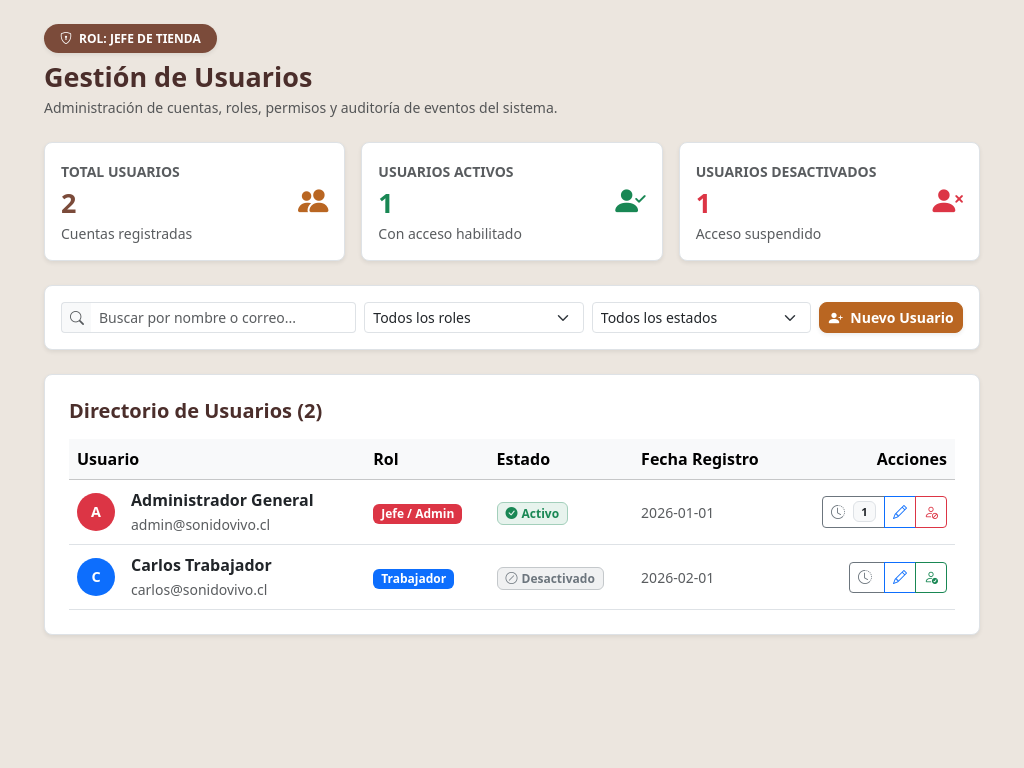
Test: UsuariosJefe - Pruebas Unitarias › 5. Filtra la lista de usuarios por término de búsqueda, rol y estado
Type "carlos" into the field with placeholder "Buscar por nombre o correo..." at (224, 318), box [91,302,356,333]
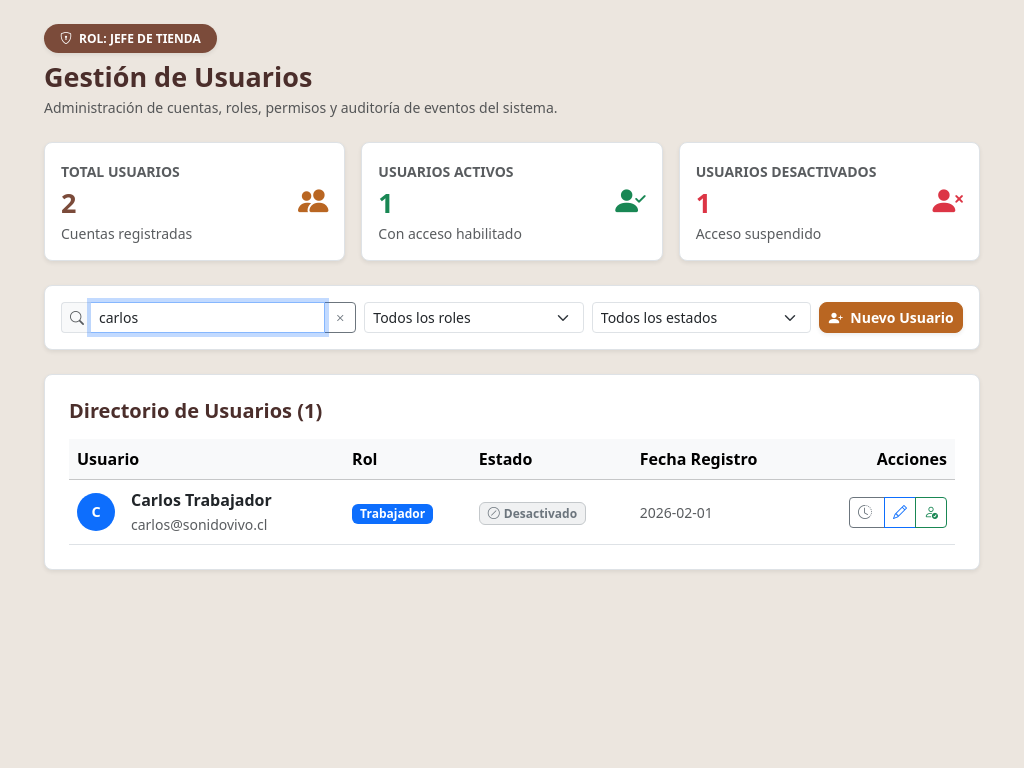
Expected: the text "Carlos Trabajador" is shown, [131,488,272,512]
Result: the text "Administrador General" is gone
Clear the field with placeholder "Buscar por nombre o correo..." at (208, 318), box [91,302,325,333]
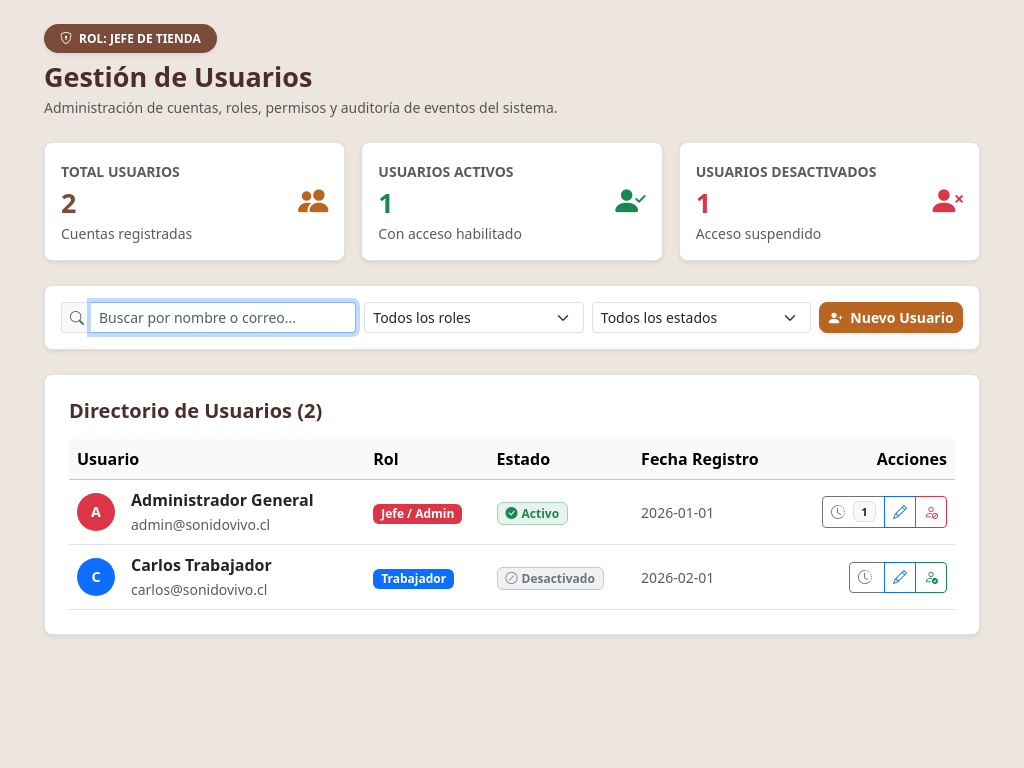
Select "Jefe / Administrador" in the dropdown named "Filtrar por rol" at (474, 318), box [364,302,584,333]
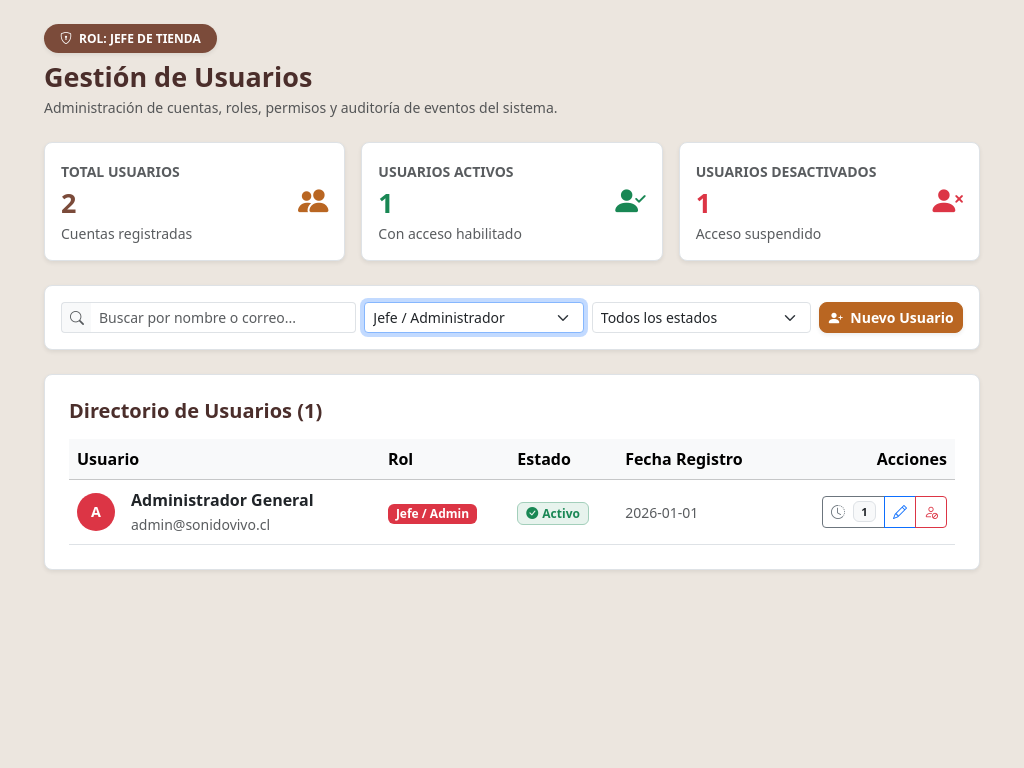
Result: the text "Administrador General" is shown at [131,488,314,512]
Result: the text "Carlos Trabajador" is gone
